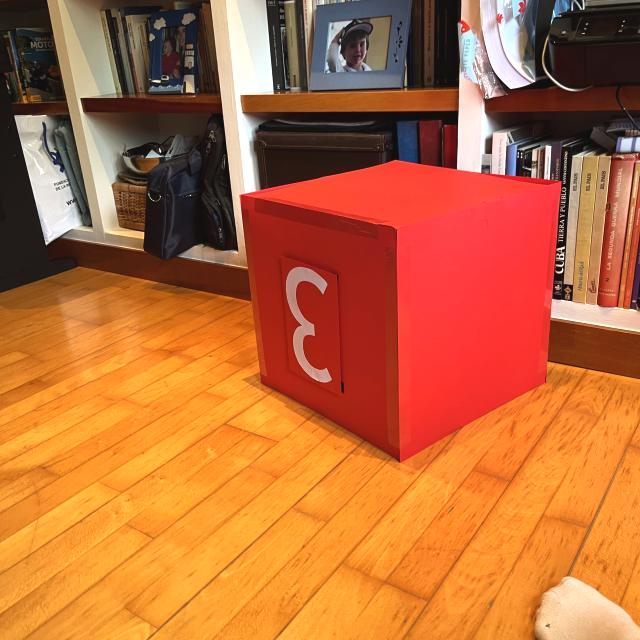box: (234, 155, 564, 463)
